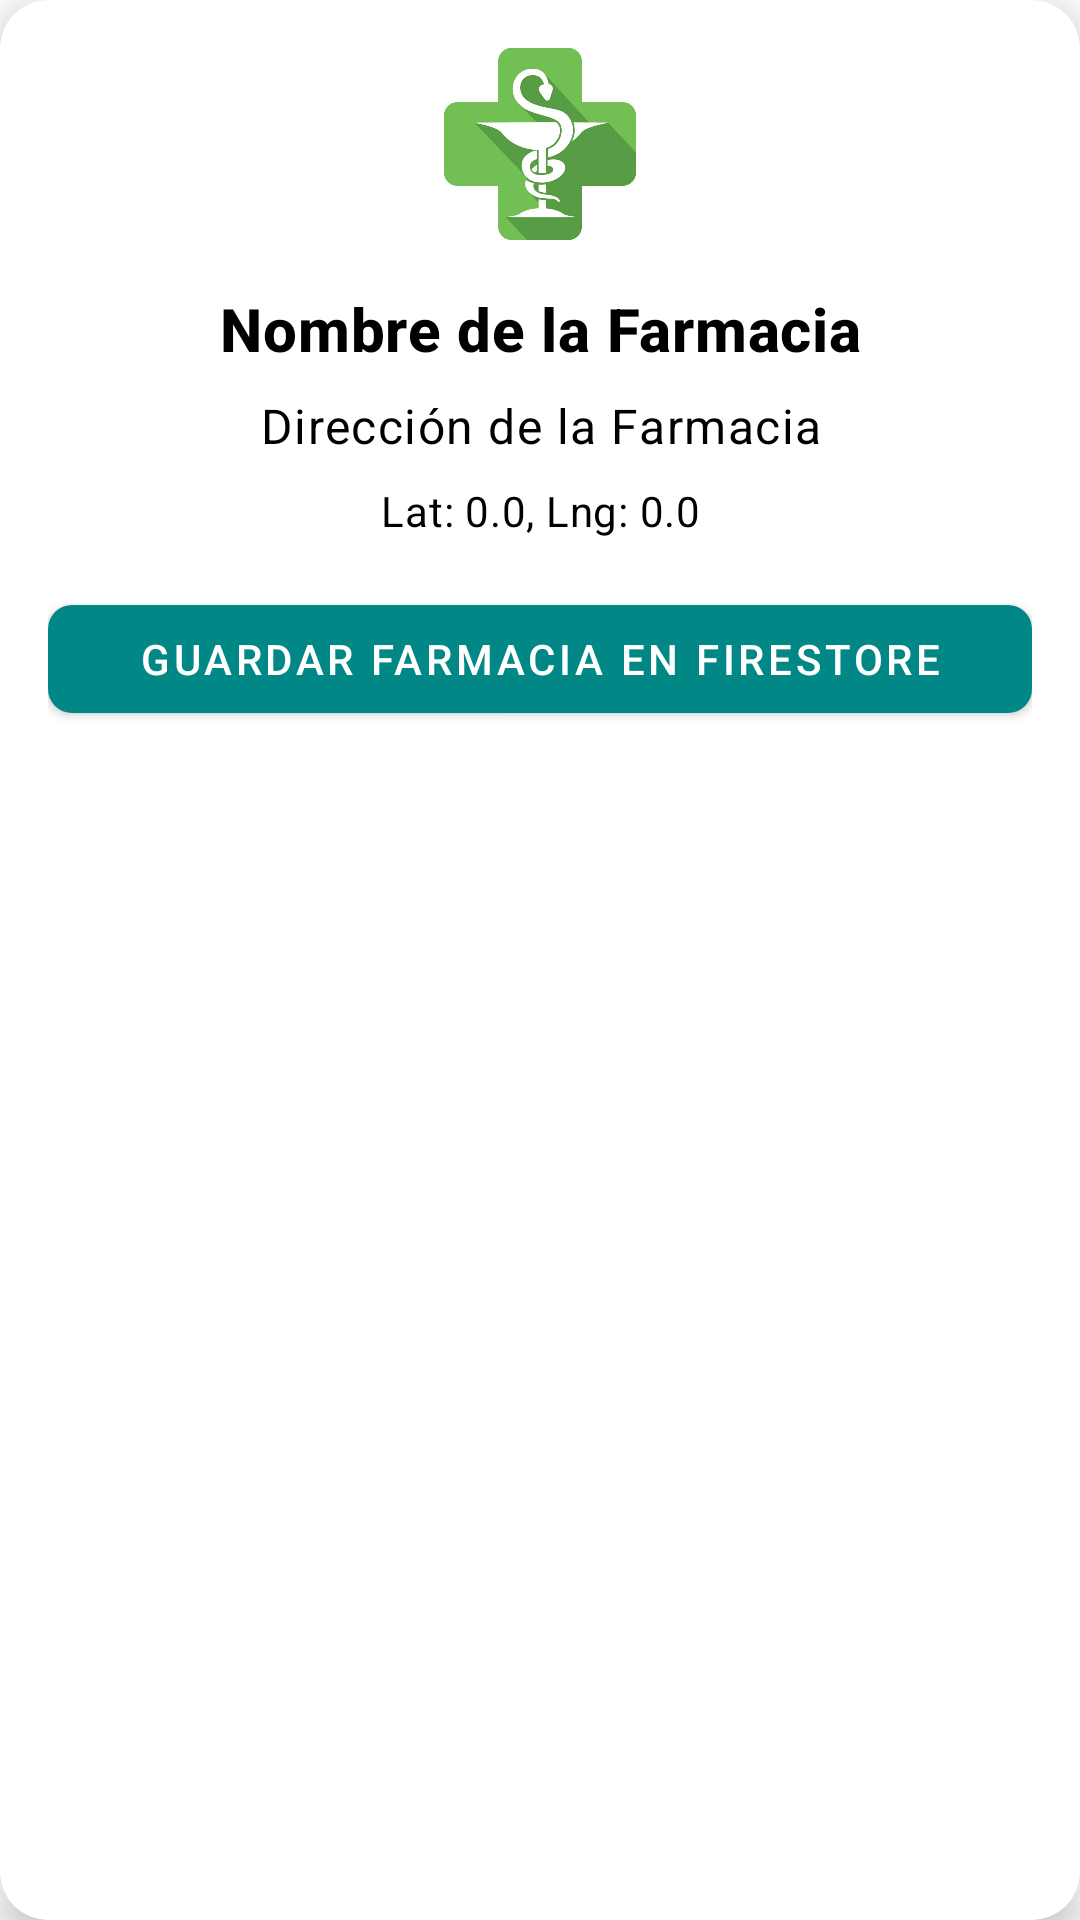

Screen size 1080x1920. Icon name, then its box in pixels as bbox=(x1, y1, x2, y2):
pharmacy: bbox=(444, 48, 636, 240)
